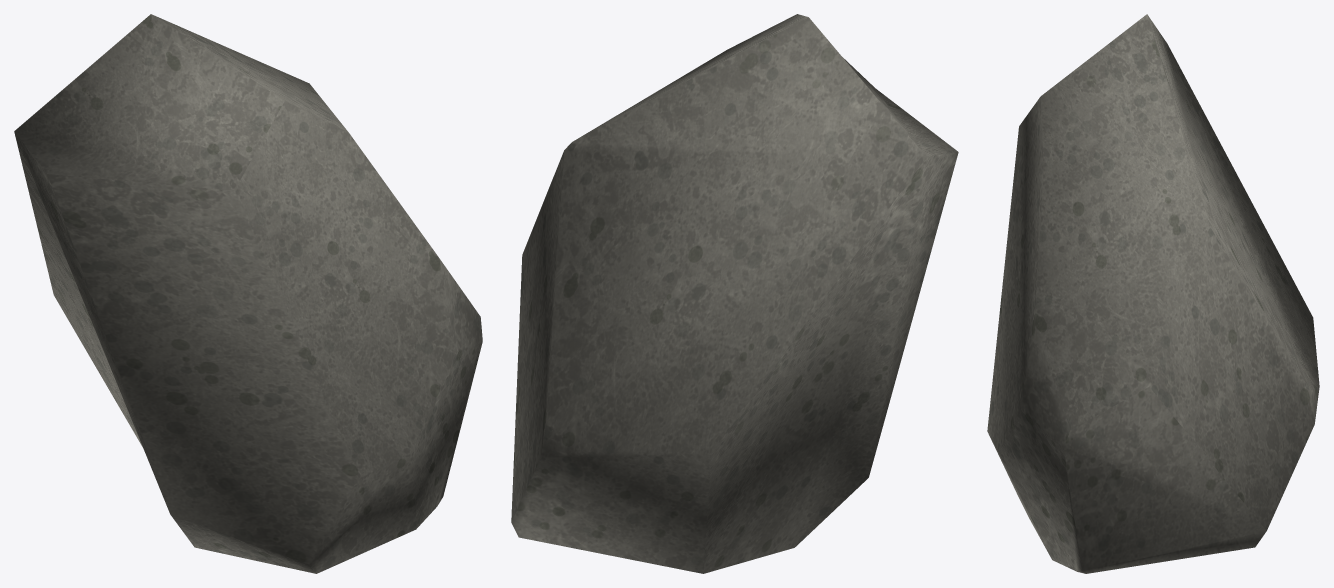
The model's file is rock2.fbx.
3 views of the same model, side by side, from view 1: azimuth 30°, elevation 25°; view 2: azimuth 150°, elevation 25°; view 3: azimuth 270°, elevation 25° (orthographic). The views are drawn at different scales.
Parts seen in each view (by area): view 1: rock.001; view 2: rock.001; view 3: rock.001.
Part boxes in pixels (left/top/right/bottom): rock.001: left=14, top=14, right=482, bottom=573; rock.001: left=511, top=14, right=958, bottom=573; rock.001: left=987, top=14, right=1319, bottom=573.
Size of the model in its own units: 404 by 502 by 326.
